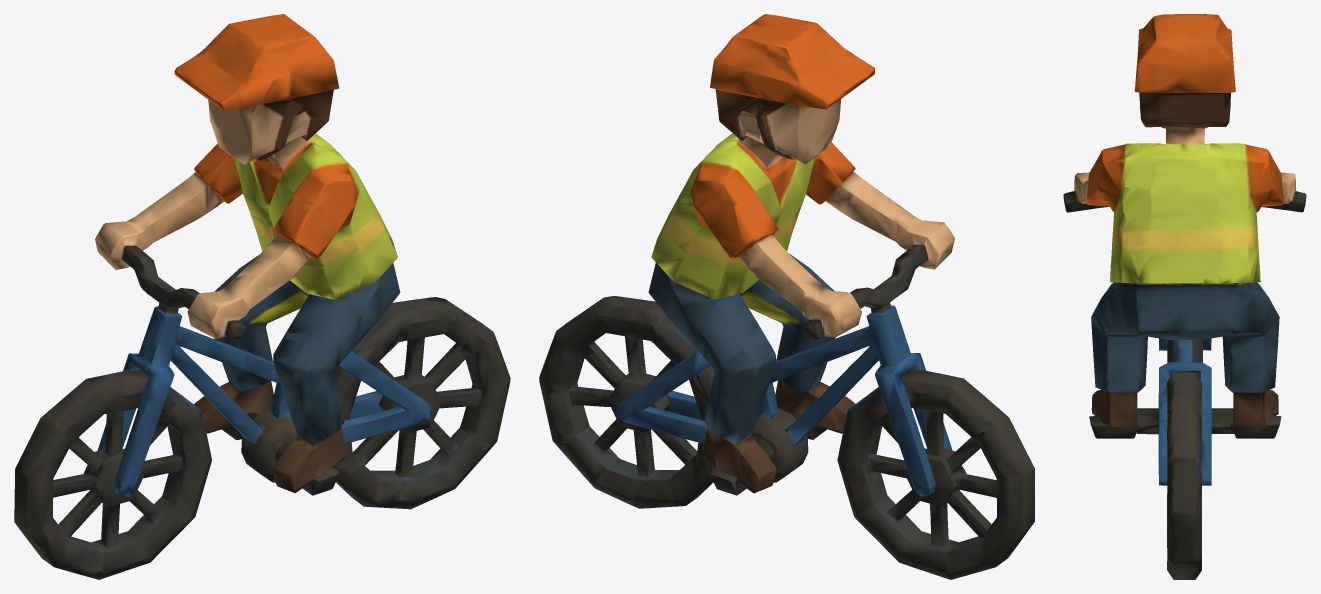
File: rowerzysta.glb
The picture shows the model from 3 angles, left to right: view 1: azimuth 30°, elevation 25°; view 2: azimuth 150°, elevation 25°; view 3: azimuth 270°, elevation 25°; orthographic projection. The views are drawn at different scales.
Visible parts, largest first — view 1: tripo_node_0c13e6ad-3c35-4766-b669-48a26372fed7; view 2: tripo_node_0c13e6ad-3c35-4766-b669-48a26372fed7; view 3: tripo_node_0c13e6ad-3c35-4766-b669-48a26372fed7.
Boxes of the visible parts, x1,y1,x2,y2 form: tripo_node_0c13e6ad-3c35-4766-b669-48a26372fed7: [14, 14, 510, 579]; tripo_node_0c13e6ad-3c35-4766-b669-48a26372fed7: [539, 14, 1034, 579]; tripo_node_0c13e6ad-3c35-4766-b669-48a26372fed7: [1063, 14, 1306, 579].
Size of the model in its own units: 0.9776 by 0.9794 by 0.4482.
Materials: 1 (1 with a texture image).
